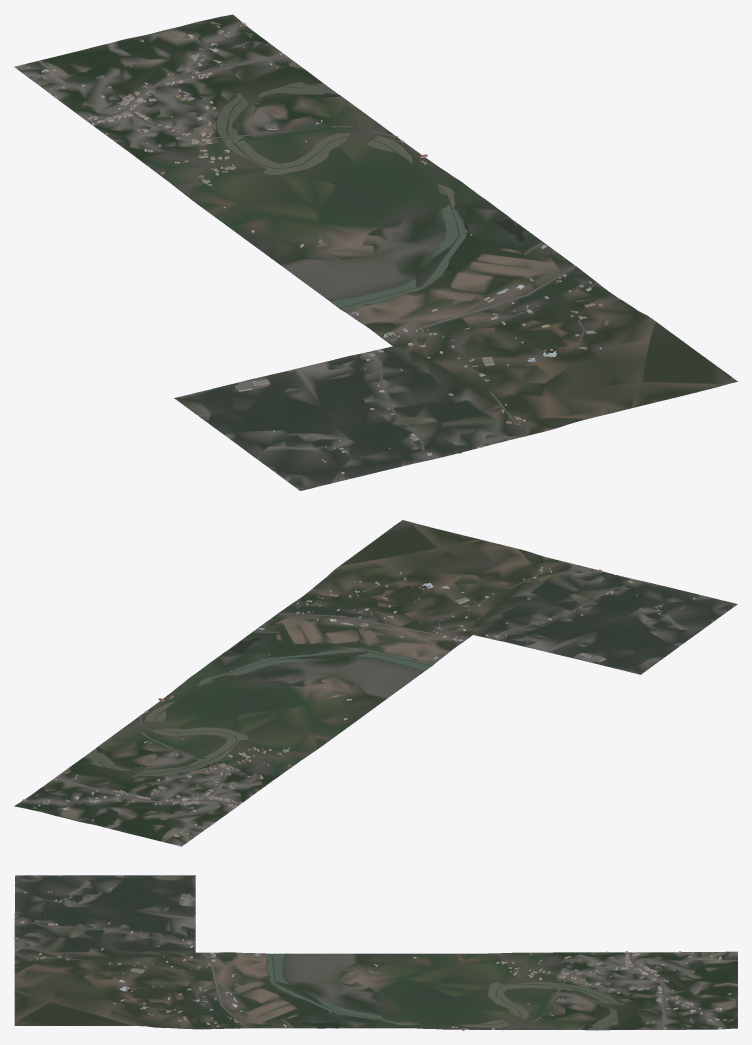
3 renders of one model, top to bottom at view 1: azimuth 30°, elevation 25°; view 2: azimuth 150°, elevation 25°; view 3: azimuth 270°, elevation 25°, orthographic. The views are drawn at different scales.
Parts seen in each view (by area): view 1: ground, water, buildings, roads; view 2: ground, water, buildings, roads; view 3: ground, water, buildings, roads.
Part boxes in pixels (left/top/right/bottom): ground: left=14, top=14, right=737, bottom=490; water: left=216, top=82, right=525, bottom=311; buildings: left=27, top=22, right=608, bottom=473; roads: left=88, top=22, right=619, bottom=460; ground: left=14, top=520, right=737, bottom=846; water: left=84, top=637, right=434, bottom=777; buildings: left=22, top=565, right=695, bottom=842; roads: left=21, top=562, right=641, bottom=805; ground: left=14, top=875, right=737, bottom=1030; water: left=266, top=953, right=623, bottom=1029; buildings: left=14, top=888, right=731, bottom=1030; roads: left=15, top=919, right=724, bottom=1030.
Size of the model in its own units: 2823 by 39.02 by 5608.
